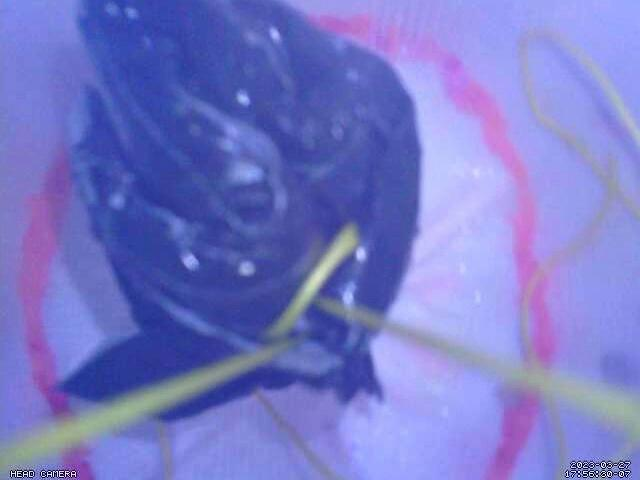head: (18, 11, 560, 480)
